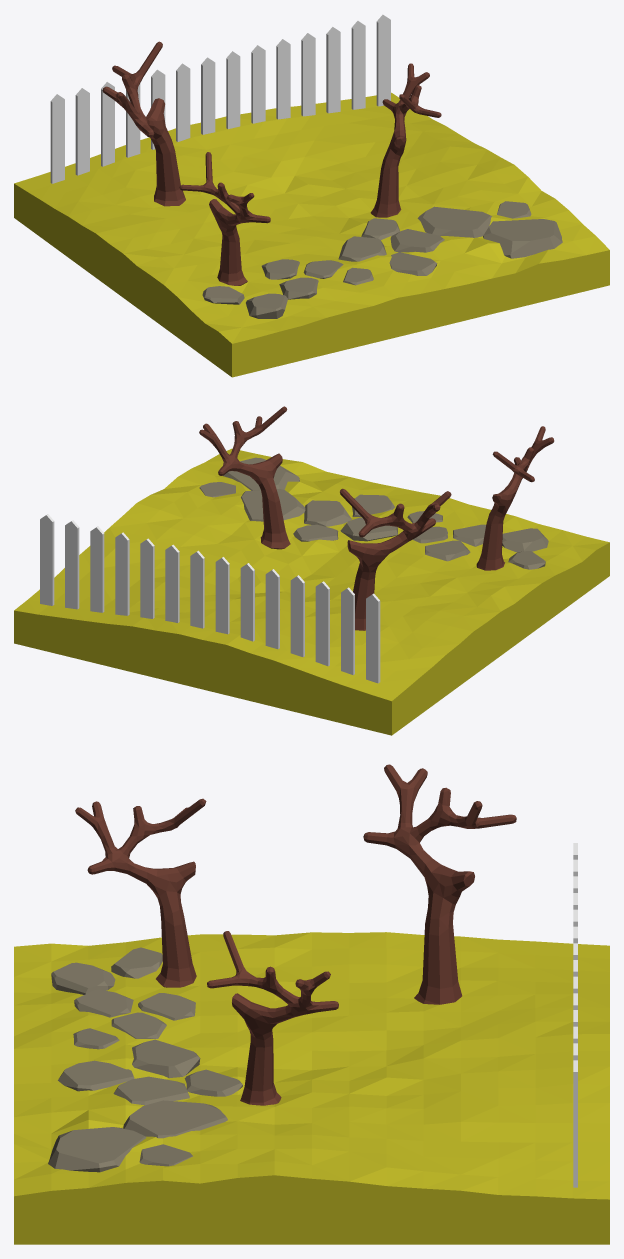
File: garden.gltf
The picture shows the model from 3 angles, top to bottom: view 1: azimuth 30°, elevation 25°; view 2: azimuth 150°, elevation 25°; view 3: azimuth 270°, elevation 25°; orthographic projection. The views are drawn at different scales.
Visible parts, largest first — view 1: Ground, Fence, Tree.001, Tree, Tree.002, Rock, Rock.001, Rock.002, Rock.004, Rock.011, Rock.003, Rock.010 (+5 smaller); view 2: Ground, Fence, Tree.001, Tree.002, Tree, Rock.001, Rock.002, Rock.011, Rock, Rock.004, Rock.009, Rock.003 (+4 smaller); view 3: Ground, Tree.001, Tree, Tree.002, Rock, Rock.001, Rock.004, Fence, Rock.003, Rock.002, Rock.011, Rock.010 (+6 smaller).
Part boxes in pixels (x1,y1,x2,y2): Ground: (14, 92, 609, 377); Fence: (50, 14, 390, 183); Tree.001: (102, 41, 185, 206); Tree: (179, 152, 270, 285); Tree.002: (370, 63, 441, 217); Rock: (483, 219, 562, 258); Rock.001: (417, 206, 491, 237); Rock.002: (390, 229, 444, 252); Rock.004: (338, 236, 386, 261); Rock.011: (246, 293, 287, 318); Rock.003: (389, 252, 437, 275); Rock.010: (279, 277, 318, 299); Ground: (14, 448, 609, 735); Fence: (40, 514, 380, 683); Tree.001: (340, 488, 451, 630); Tree.002: (199, 406, 290, 549); Tree: (476, 426, 554, 570); Rock.001: (241, 488, 305, 521); Rock.002: (304, 500, 351, 526); Rock.011: (502, 528, 548, 552); Rock: (223, 457, 299, 490); Rock.004: (340, 517, 397, 541); Rock.009: (425, 540, 470, 561); Rock.003: (352, 494, 394, 516); Ground: (14, 932, 609, 1244); Tree.001: (363, 764, 516, 1004); Tree: (75, 798, 206, 987); Tree.002: (207, 931, 338, 1105); Rock: (48, 1127, 146, 1172); Rock.001: (123, 1100, 227, 1138); Rock.004: (132, 1039, 200, 1078); Fence: (573, 843, 577, 1187); Rock.003: (58, 1060, 134, 1091); Rock.002: (113, 1076, 189, 1105); Rock.011: (51, 962, 115, 994); Rock.010: (74, 989, 133, 1017).
Size of what is drawn, in the model's own units: 8 by 3.79 by 8.
